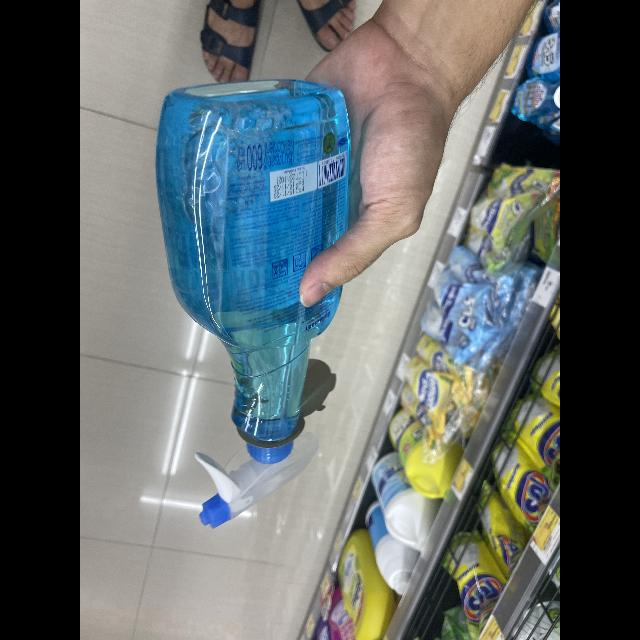chemical_plastic_bottle: (145, 72, 361, 534)
